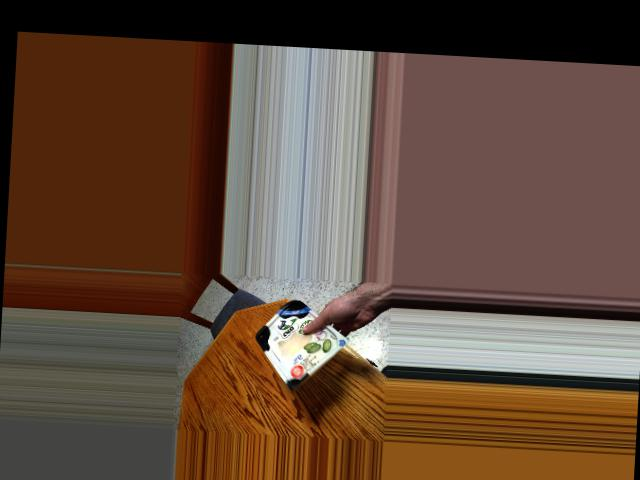cheese: (261, 298, 333, 380)
